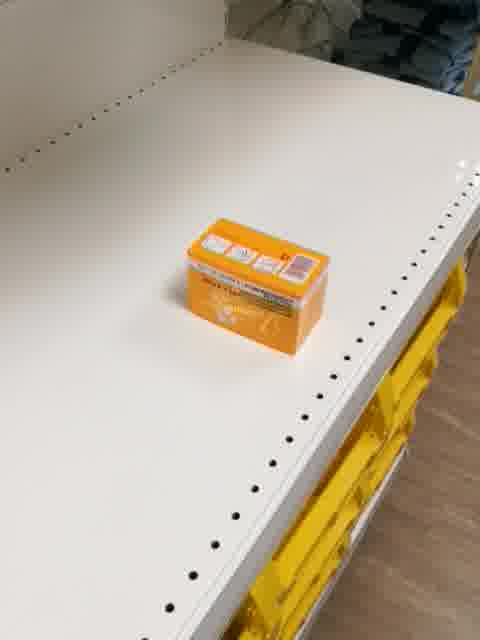jasminetea: (183, 214, 330, 358)
